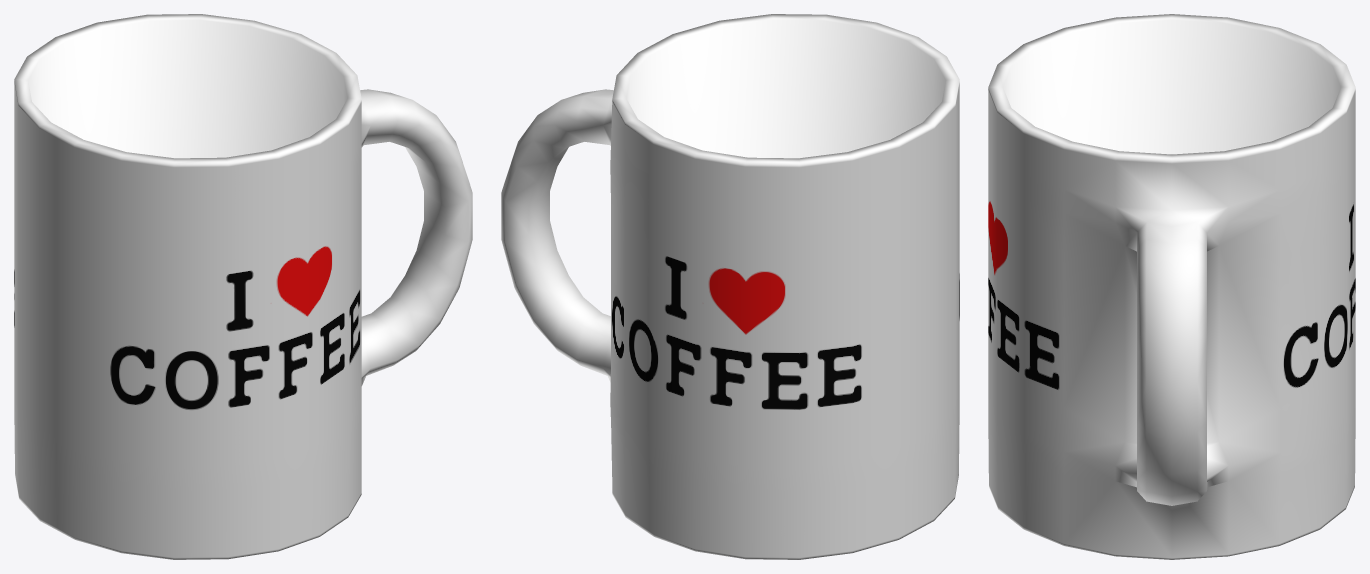
The model's file is Mug_C_glTF.glb.
3 views of the same model, side by side, from view 1: azimuth 30°, elevation 25°; view 2: azimuth 150°, elevation 25°; view 3: azimuth 270°, elevation 25° (orthographic).
Visible parts, largest first — view 1: Mug_C; view 2: Mug_C; view 3: Mug_C.
Boxes of the visible parts, left/top/right/bottom form: Mug_C: left=14, top=14, right=472, bottom=559; Mug_C: left=501, top=14, right=959, bottom=559; Mug_C: left=988, top=14, right=1355, bottom=559.
Size of the model in its own units: 0.1023 by 0.09 by 0.075.
Materials: 1 (1 with a texture image).
